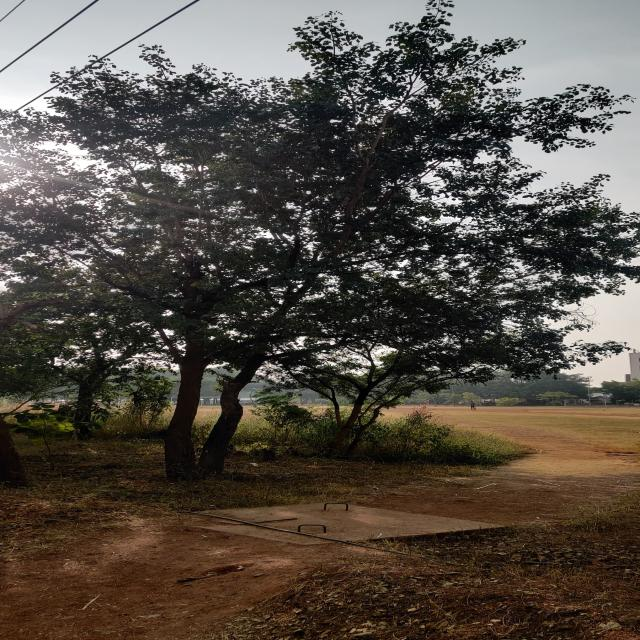Devakanchan tree: (42, 43, 555, 466)
